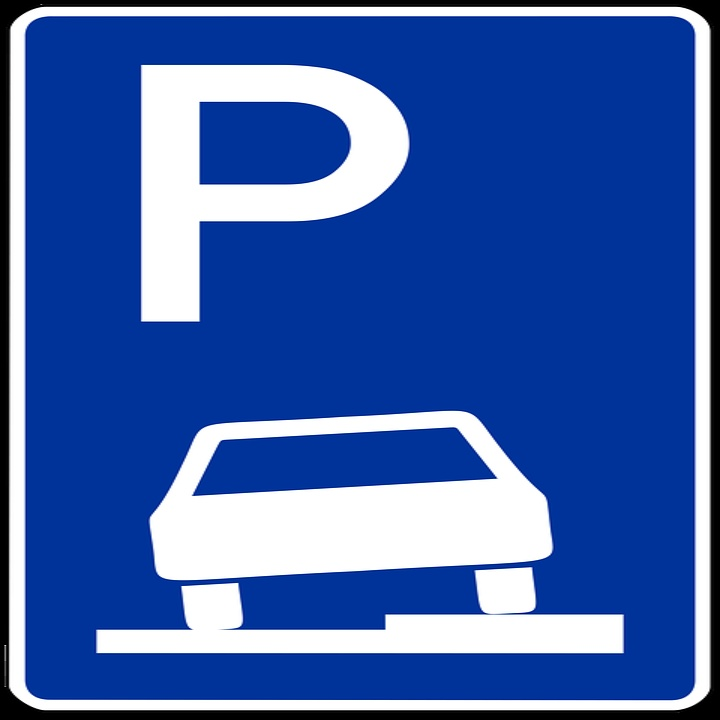park: (132, 52, 421, 336)
